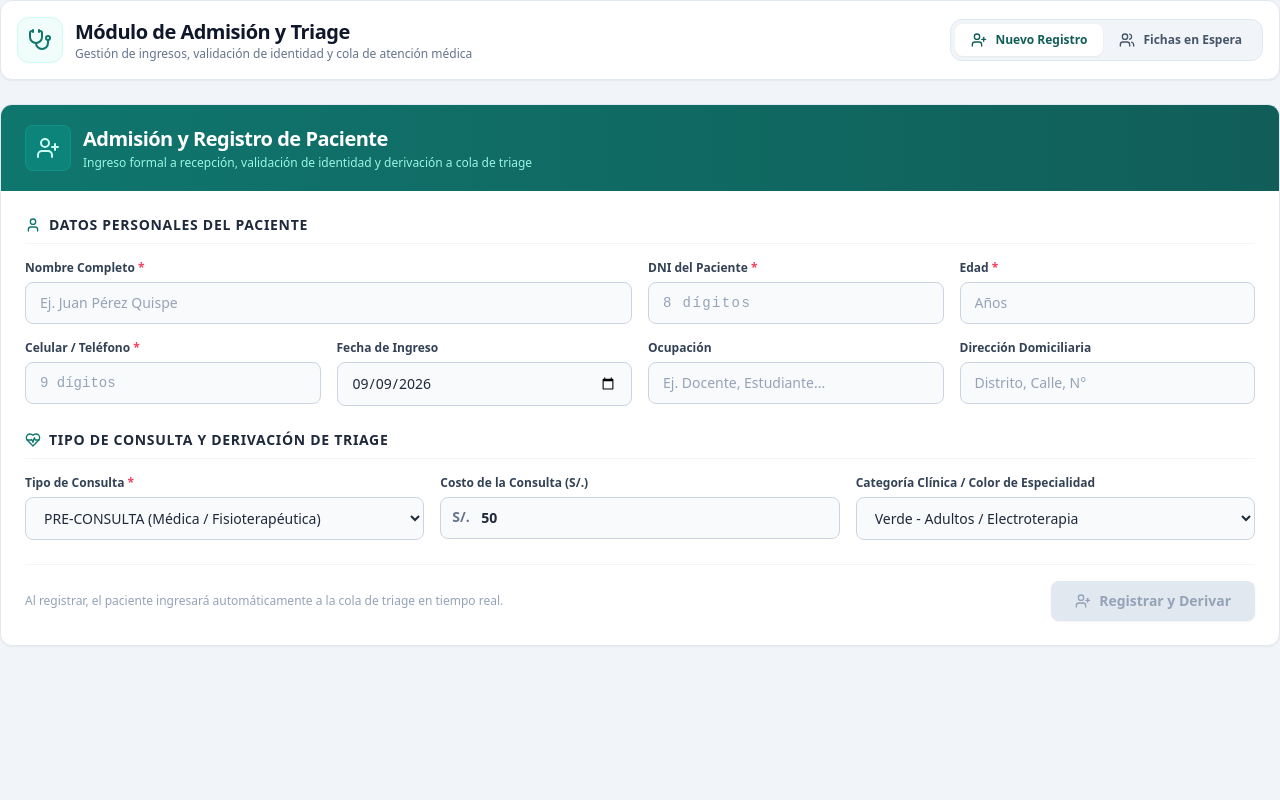
Test case: ModuloAdmision Component (Vista Unificada de Admisión y Triage) › debe cambiar a la pestaña de Fichas en Espera al hacer clic en ella
The image size is (1280, 800).
Click the button "Fichas en Espera".
click(1181, 40)  # box [1103, 24, 1258, 56]
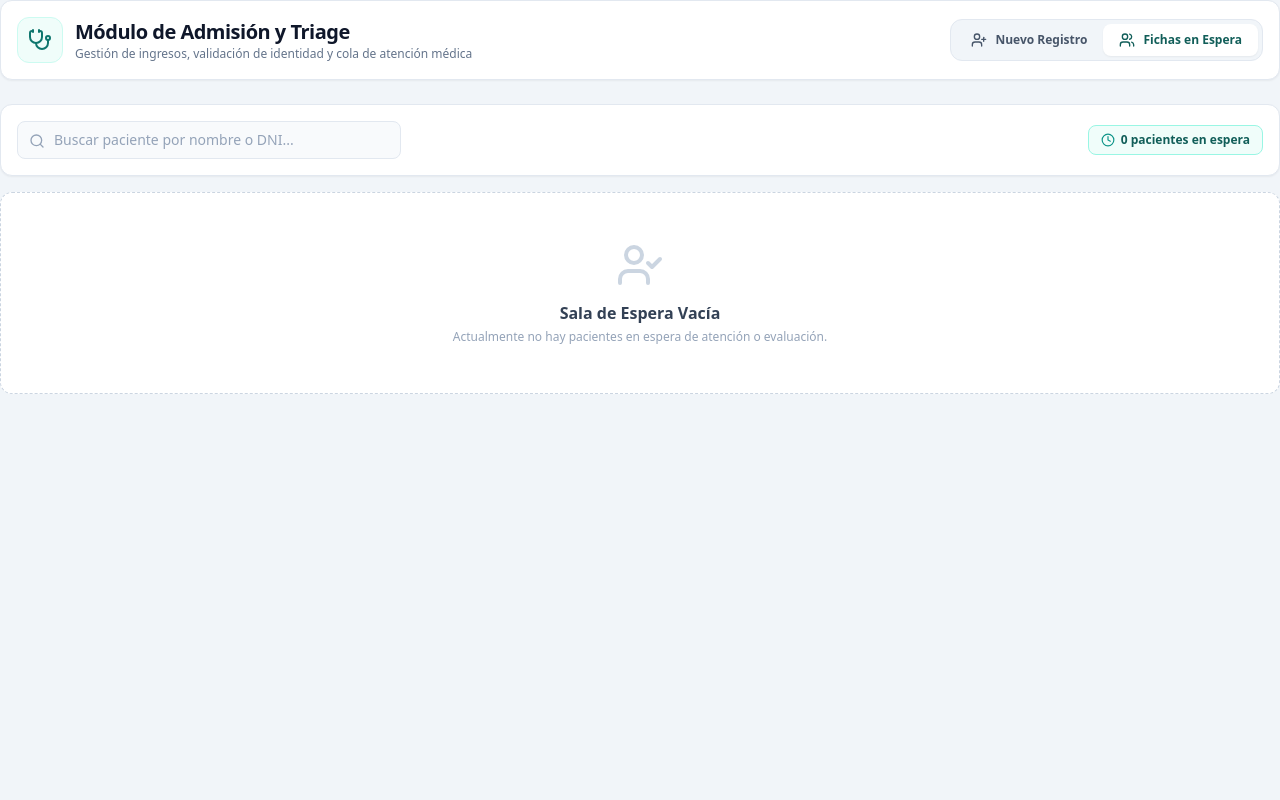
expect the field with placeholder "Buscar paciente por nombre o DNI..." is shown: met, box [17, 121, 401, 159]
expect the label labelled "Nombre Completo" is gone: met
